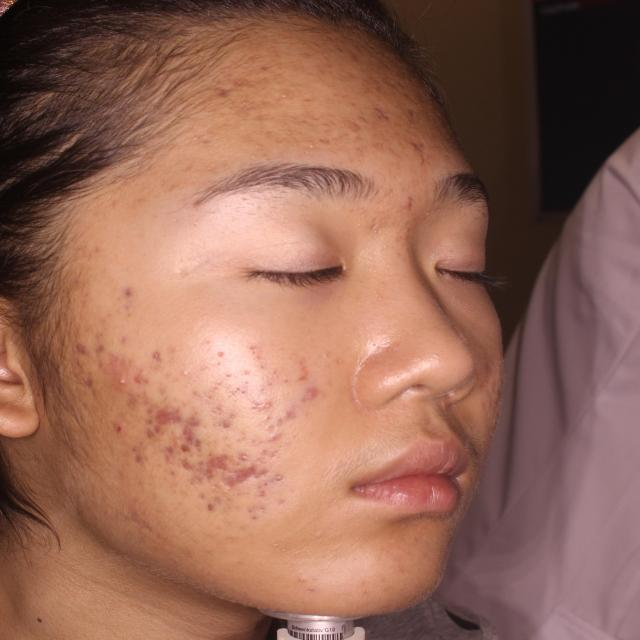Acne: (189, 342, 332, 444), (71, 341, 191, 442), (174, 451, 284, 520), (361, 100, 441, 162), (341, 48, 418, 98), (134, 444, 192, 494), (186, 73, 250, 109), (85, 284, 142, 318), (478, 378, 508, 442), (300, 114, 343, 158), (382, 190, 422, 223), (269, 73, 309, 103), (183, 134, 213, 172)
